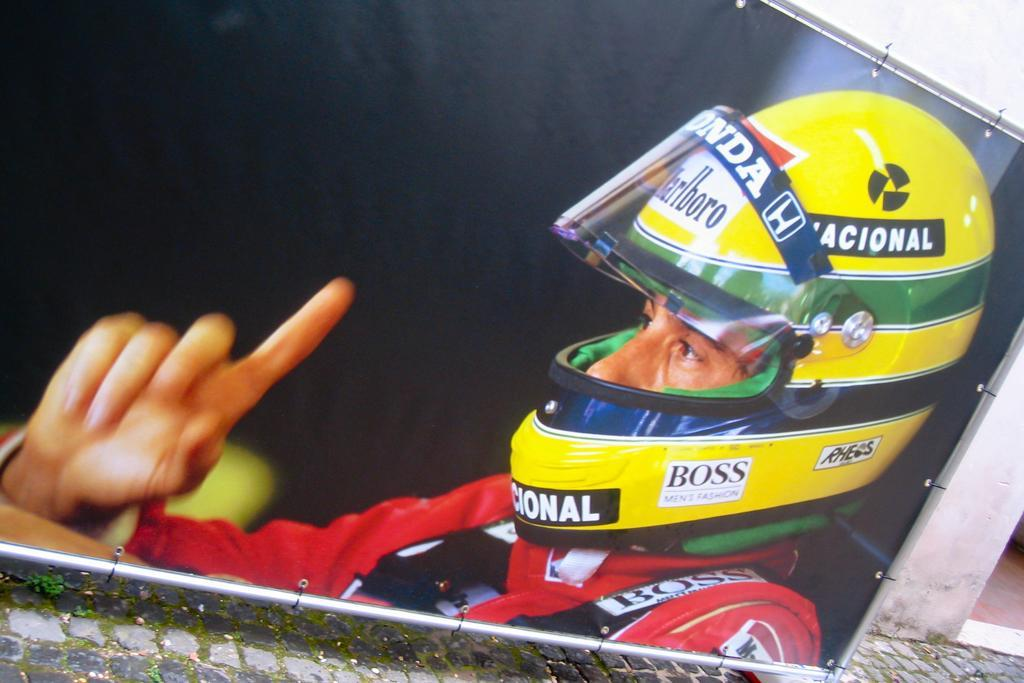helmet: (508, 86, 999, 559)
